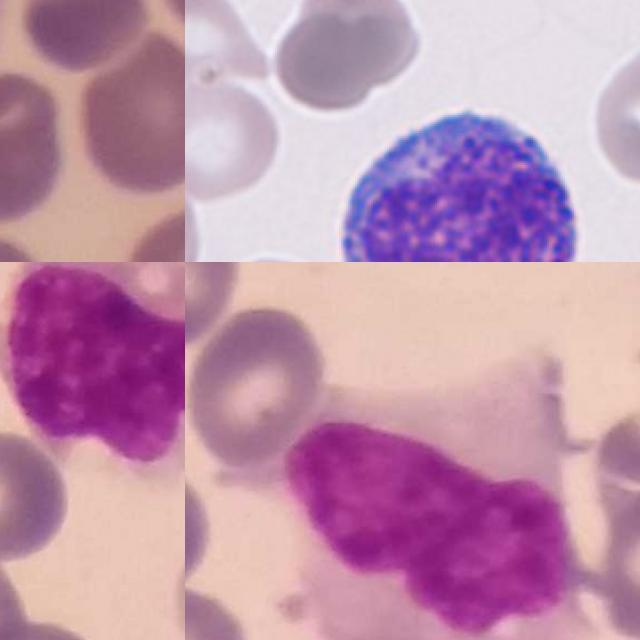Lymphocyte: (323, 95, 597, 262)
Monocyte: (279, 374, 592, 640), (0, 262, 185, 468)
RBC: (266, 0, 422, 115), (185, 76, 287, 204), (185, 0, 270, 90), (589, 40, 640, 189), (185, 170, 206, 262)
